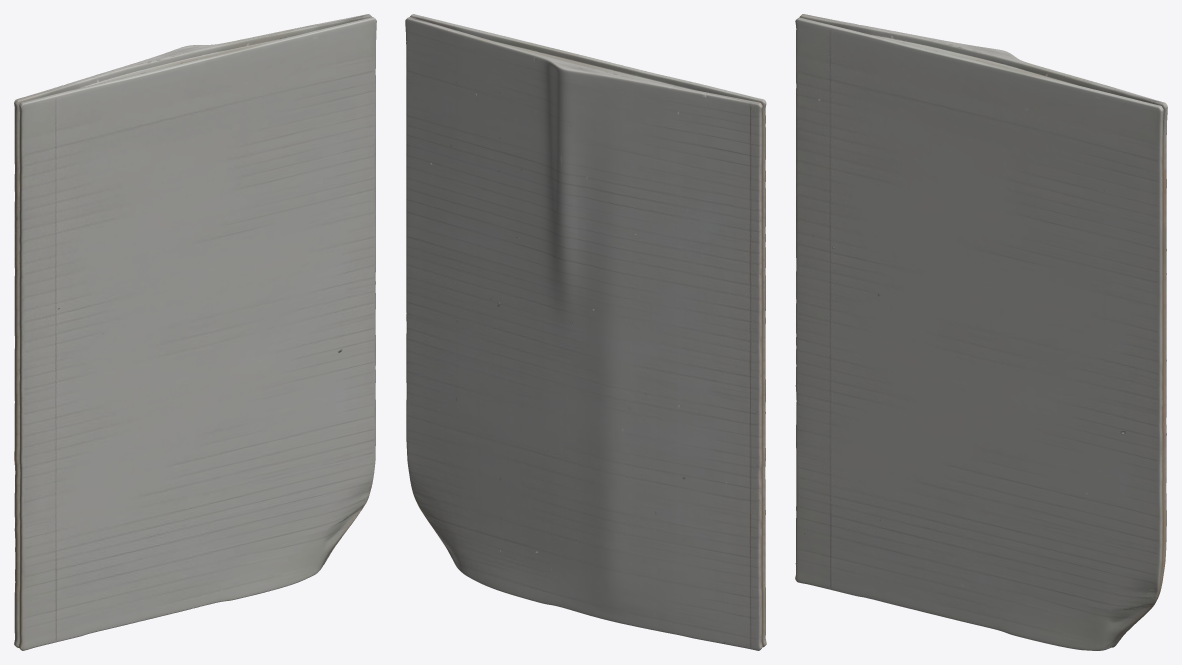
The model's file is paper.glb.
The picture shows the model from 3 angles, left to right: view 1: azimuth 30°, elevation 25°; view 2: azimuth 150°, elevation 25°; view 3: azimuth 330°, elevation 25°; orthographic projection. The views are drawn at different scales.
Parts seen in each view (by area): view 1: material; view 2: material; view 3: material.
Boxes of the visible parts, x1,y1,x2,y2 form: material: (14,14,376,650); material: (405,14,766,650); material: (795,14,1167,650).
Size of the model in its own units: 0.6783 by 0.9944 by 0.0651.
1 material, 1 textured.
